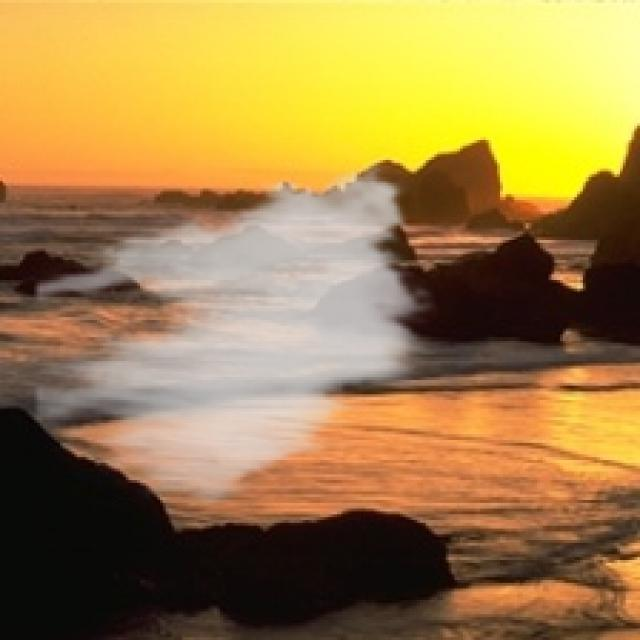Smoke: (34, 155, 437, 514)
